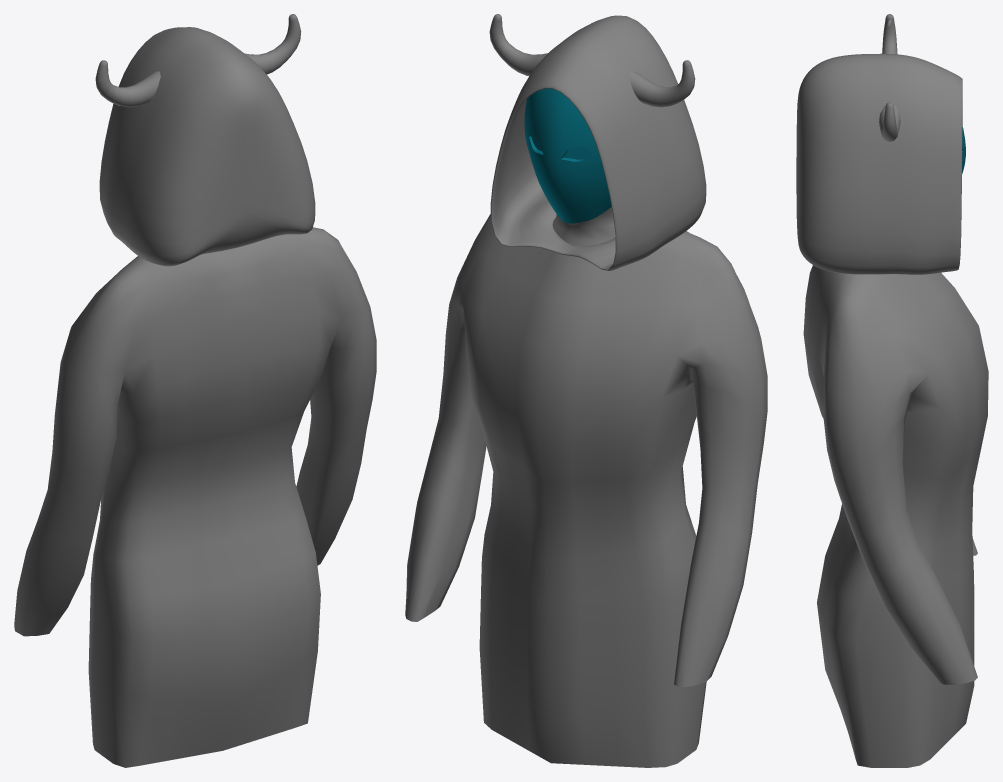
File: OxWalduś.fbx
The picture shows the model from 3 angles, left to right: view 1: azimuth 30°, elevation 25°; view 2: azimuth 150°, elevation 25°; view 3: azimuth 270°, elevation 25°; orthographic projection. The views are drawn at different scales.
Parts seen in each view (by area): view 1: Walduś, Hood, rogi; view 2: Walduś, Hood, Mask, rogi; view 3: Walduś, Hood, rogi.
Part boxes in pixels (box(x1,y1,x2,y2)): Walduś: box(14, 227, 376, 767); Hood: box(99, 27, 315, 266); rogi: box(95, 14, 301, 107); Walduś: box(405, 207, 767, 767); Hood: box(490, 15, 706, 270); Mask: box(524, 88, 611, 223); rogi: box(489, 14, 695, 107); Walduś: box(803, 265, 988, 767); Hood: box(796, 53, 962, 274); rogi: box(879, 14, 900, 141).
Bounding box in the file's own units: 53.51 × 111 × 28.91.
